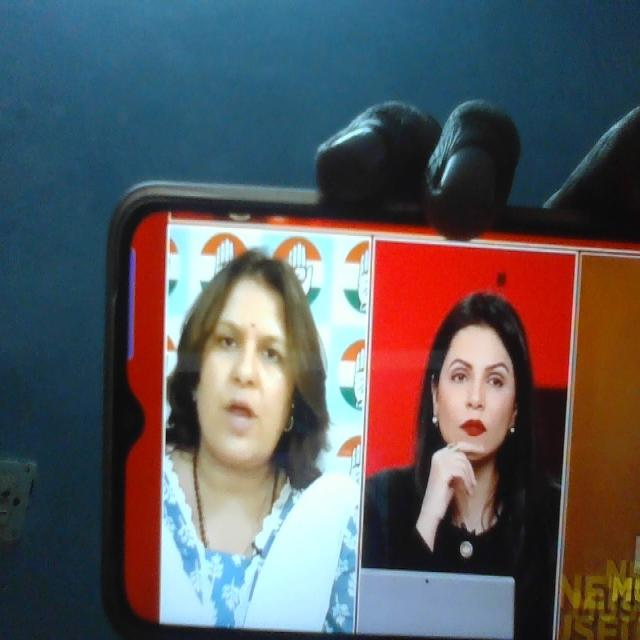fake: (190, 247, 308, 470), (425, 287, 528, 481)
